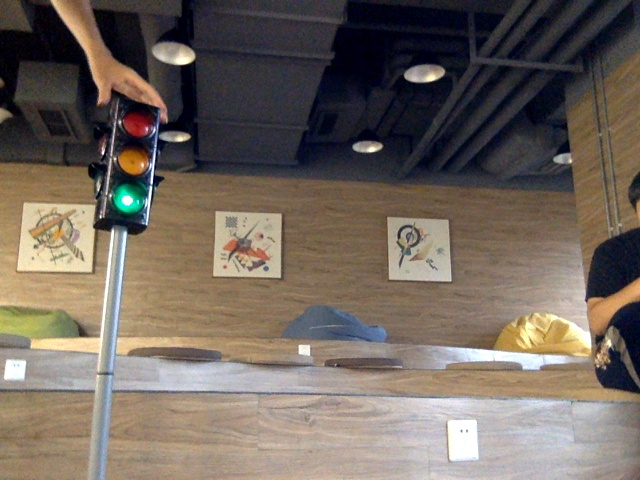green: (111, 109, 148, 221)
